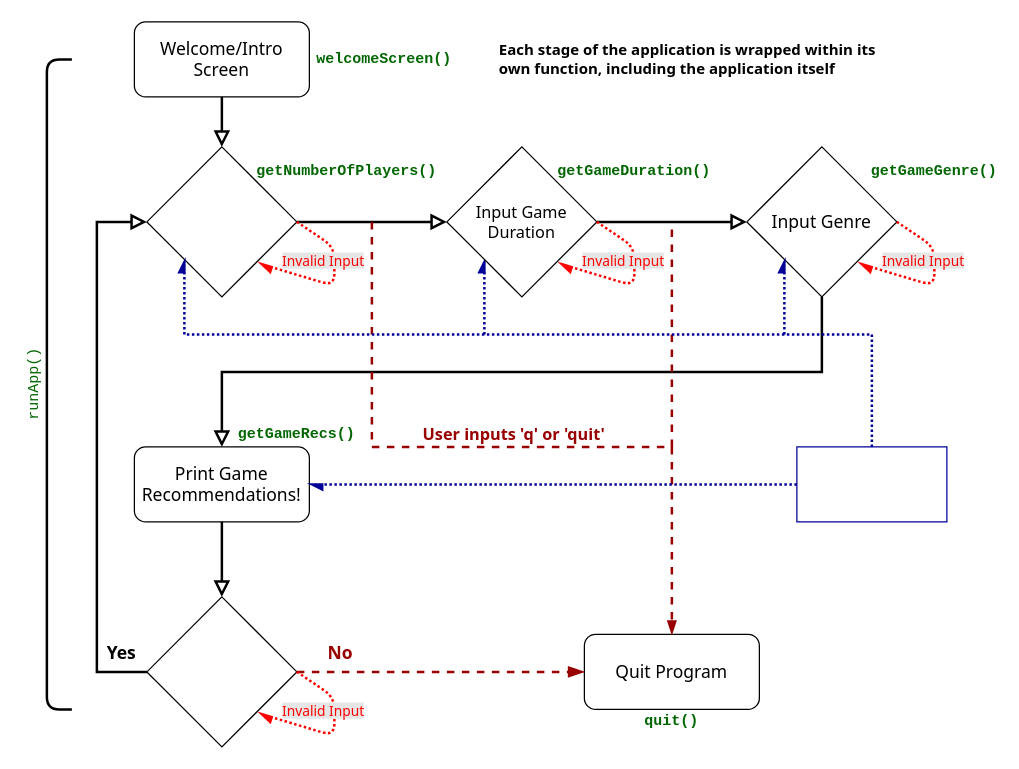
Some shapes in this 1019 by 769 pixel diagram are drawn without their labels. The centre of each missing label's shape, as x and y in pixels:
"gamesList.json JSON file with game data" goes at (x=871, y=484).
"Input Number of Players" goes at (x=221, y=221).
"Start again?" goes at (x=221, y=671).
